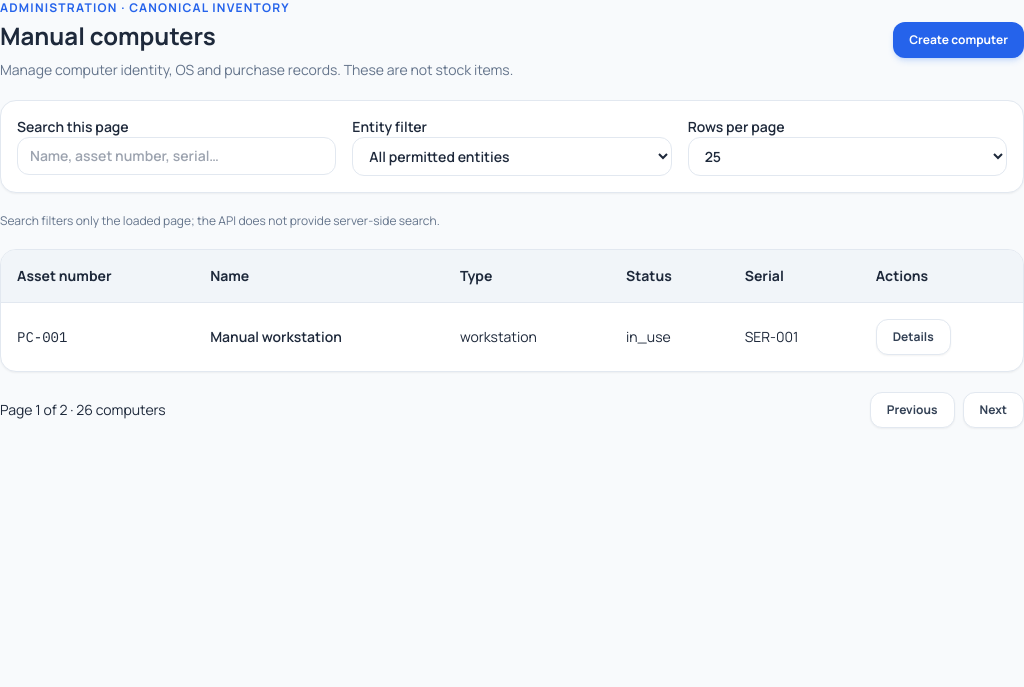
Test: manual computer page › loads canonical supplier contact details on demand without changing asset fields
Expected: the button "Create computer" is enabled, x1=893 y1=22 x2=1023 y2=58
Click the button with aria-label "Details for PC-001". click: [913, 337]
box: x1=876 y1=319 x2=951 y2=355
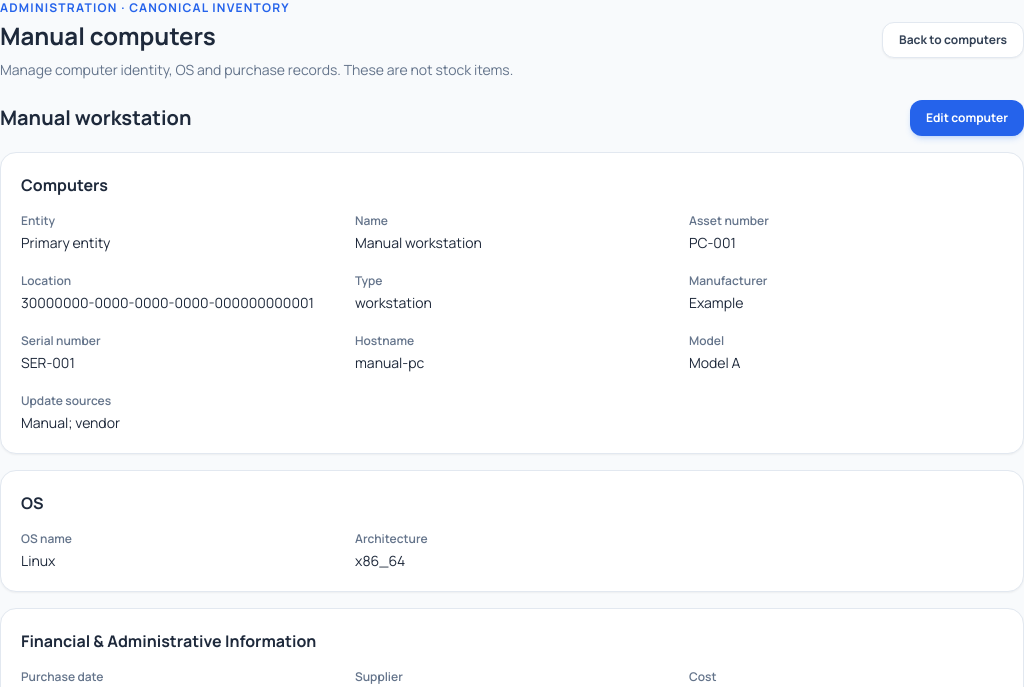
Expected: the button "Edit computer" is shown
Click the button "Edit computer". click: [967, 118]
box: x1=910 y1=100 x2=1023 y2=136
(page scrolled)
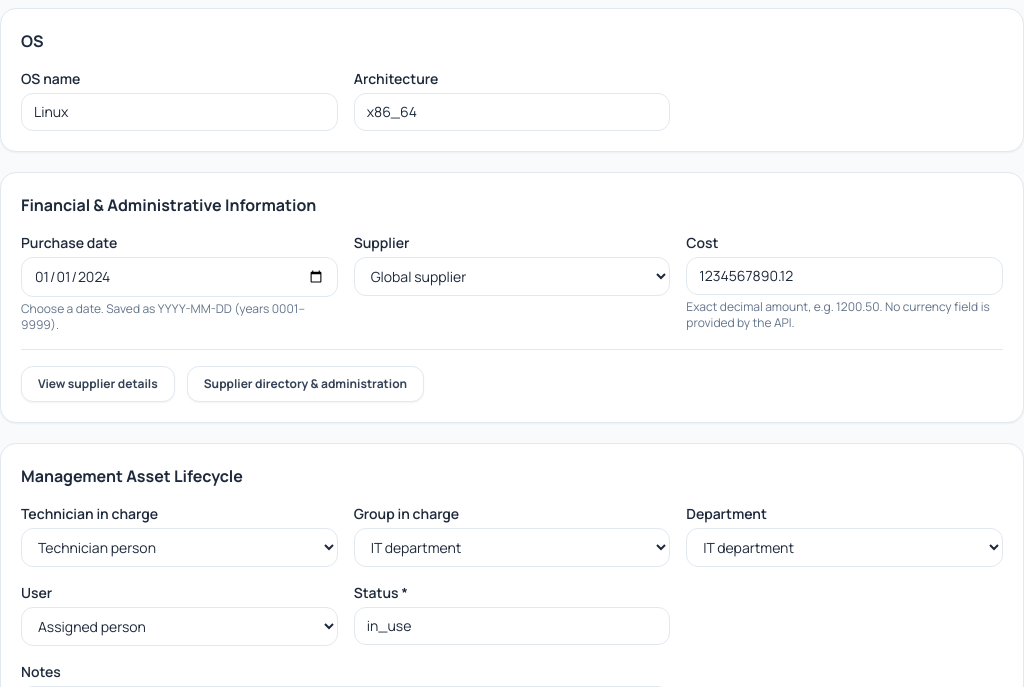
Click the button "View supplier details". click: [98, 384]
box: x1=21 y1=366 x2=175 y2=402
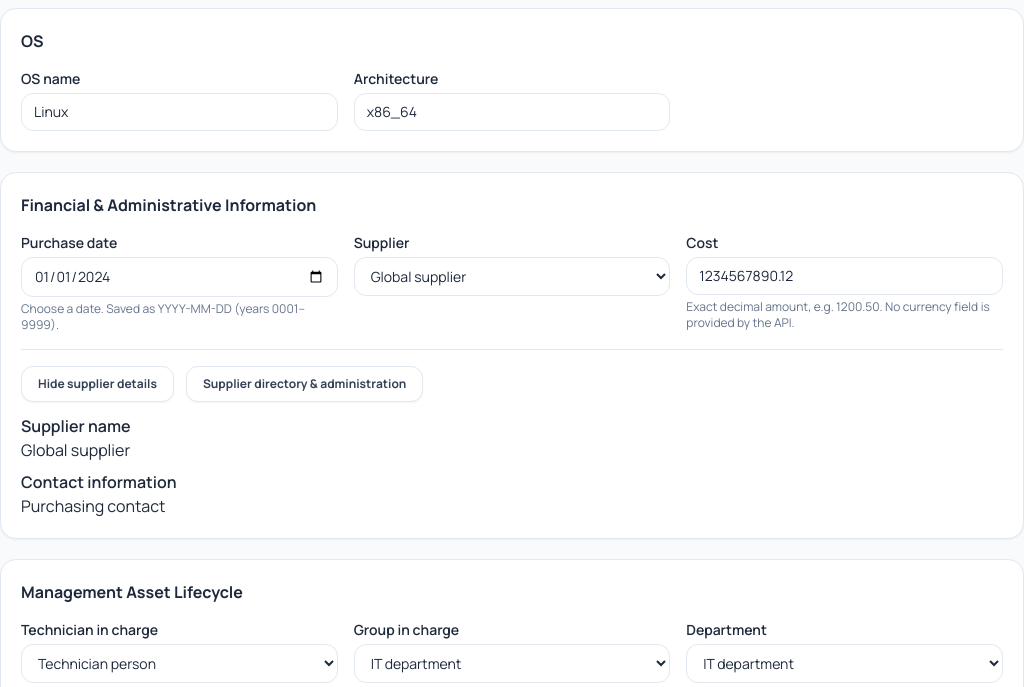
Expected: the text "Purchasing contact" is shown, x1=21 y1=495 x2=166 y2=517
Select "Not recorded" in the dropdown labelled "Supplier". click: [512, 276]
box: x1=354 y1=257 x2=670 y2=296
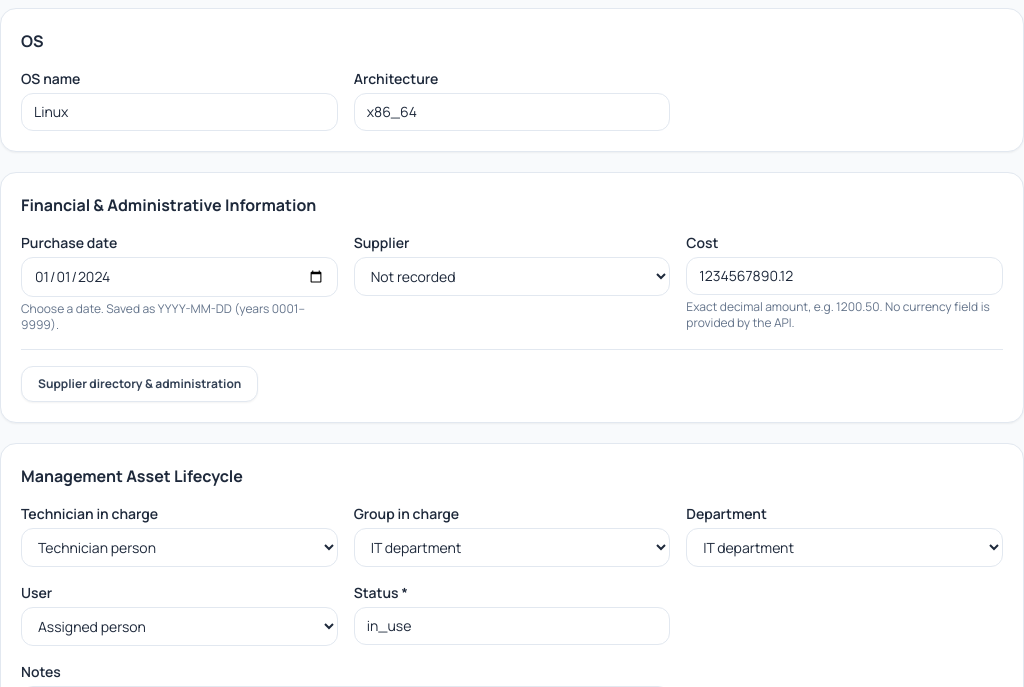
Expected: the text "Purchasing contact" is gone
